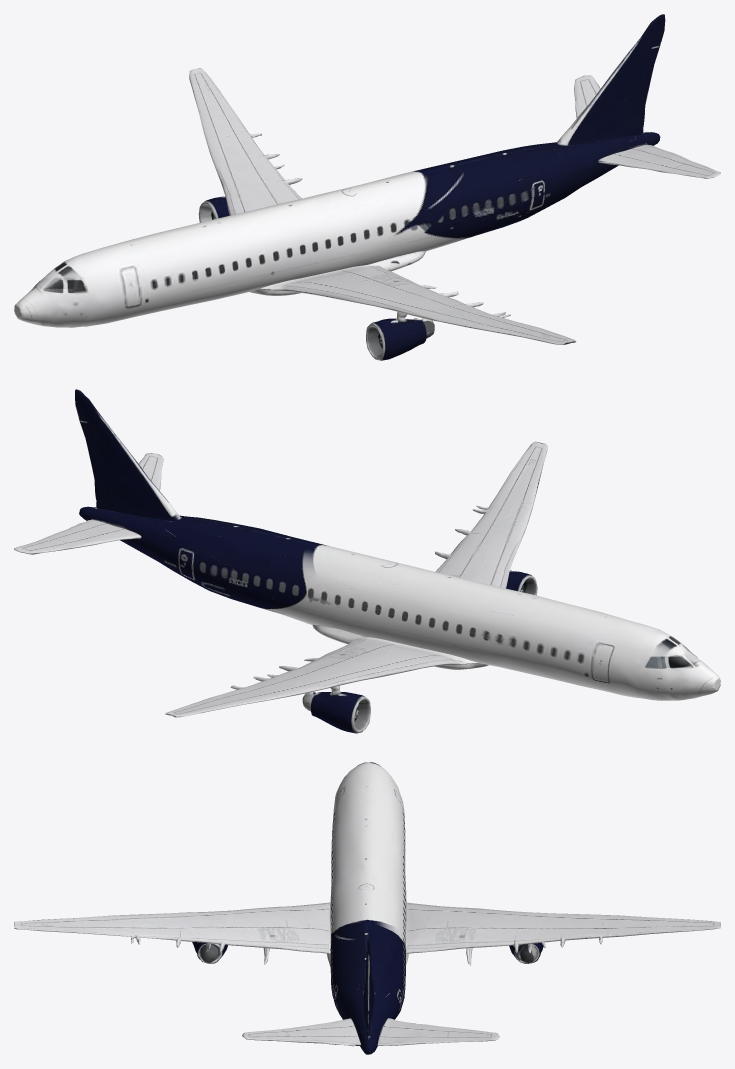
Rendered from meshy-passenger-jet.glb.
3 views of the same model, one above another, from view 1: azimuth 30°, elevation 25°; view 2: azimuth 150°, elevation 25°; view 3: azimuth 270°, elevation 25° (orthographic). The views are drawn at different scales.
Size of the model in its own units: 1 by 0.2878 by 1.
Materials: 1 (1 with a texture image).
